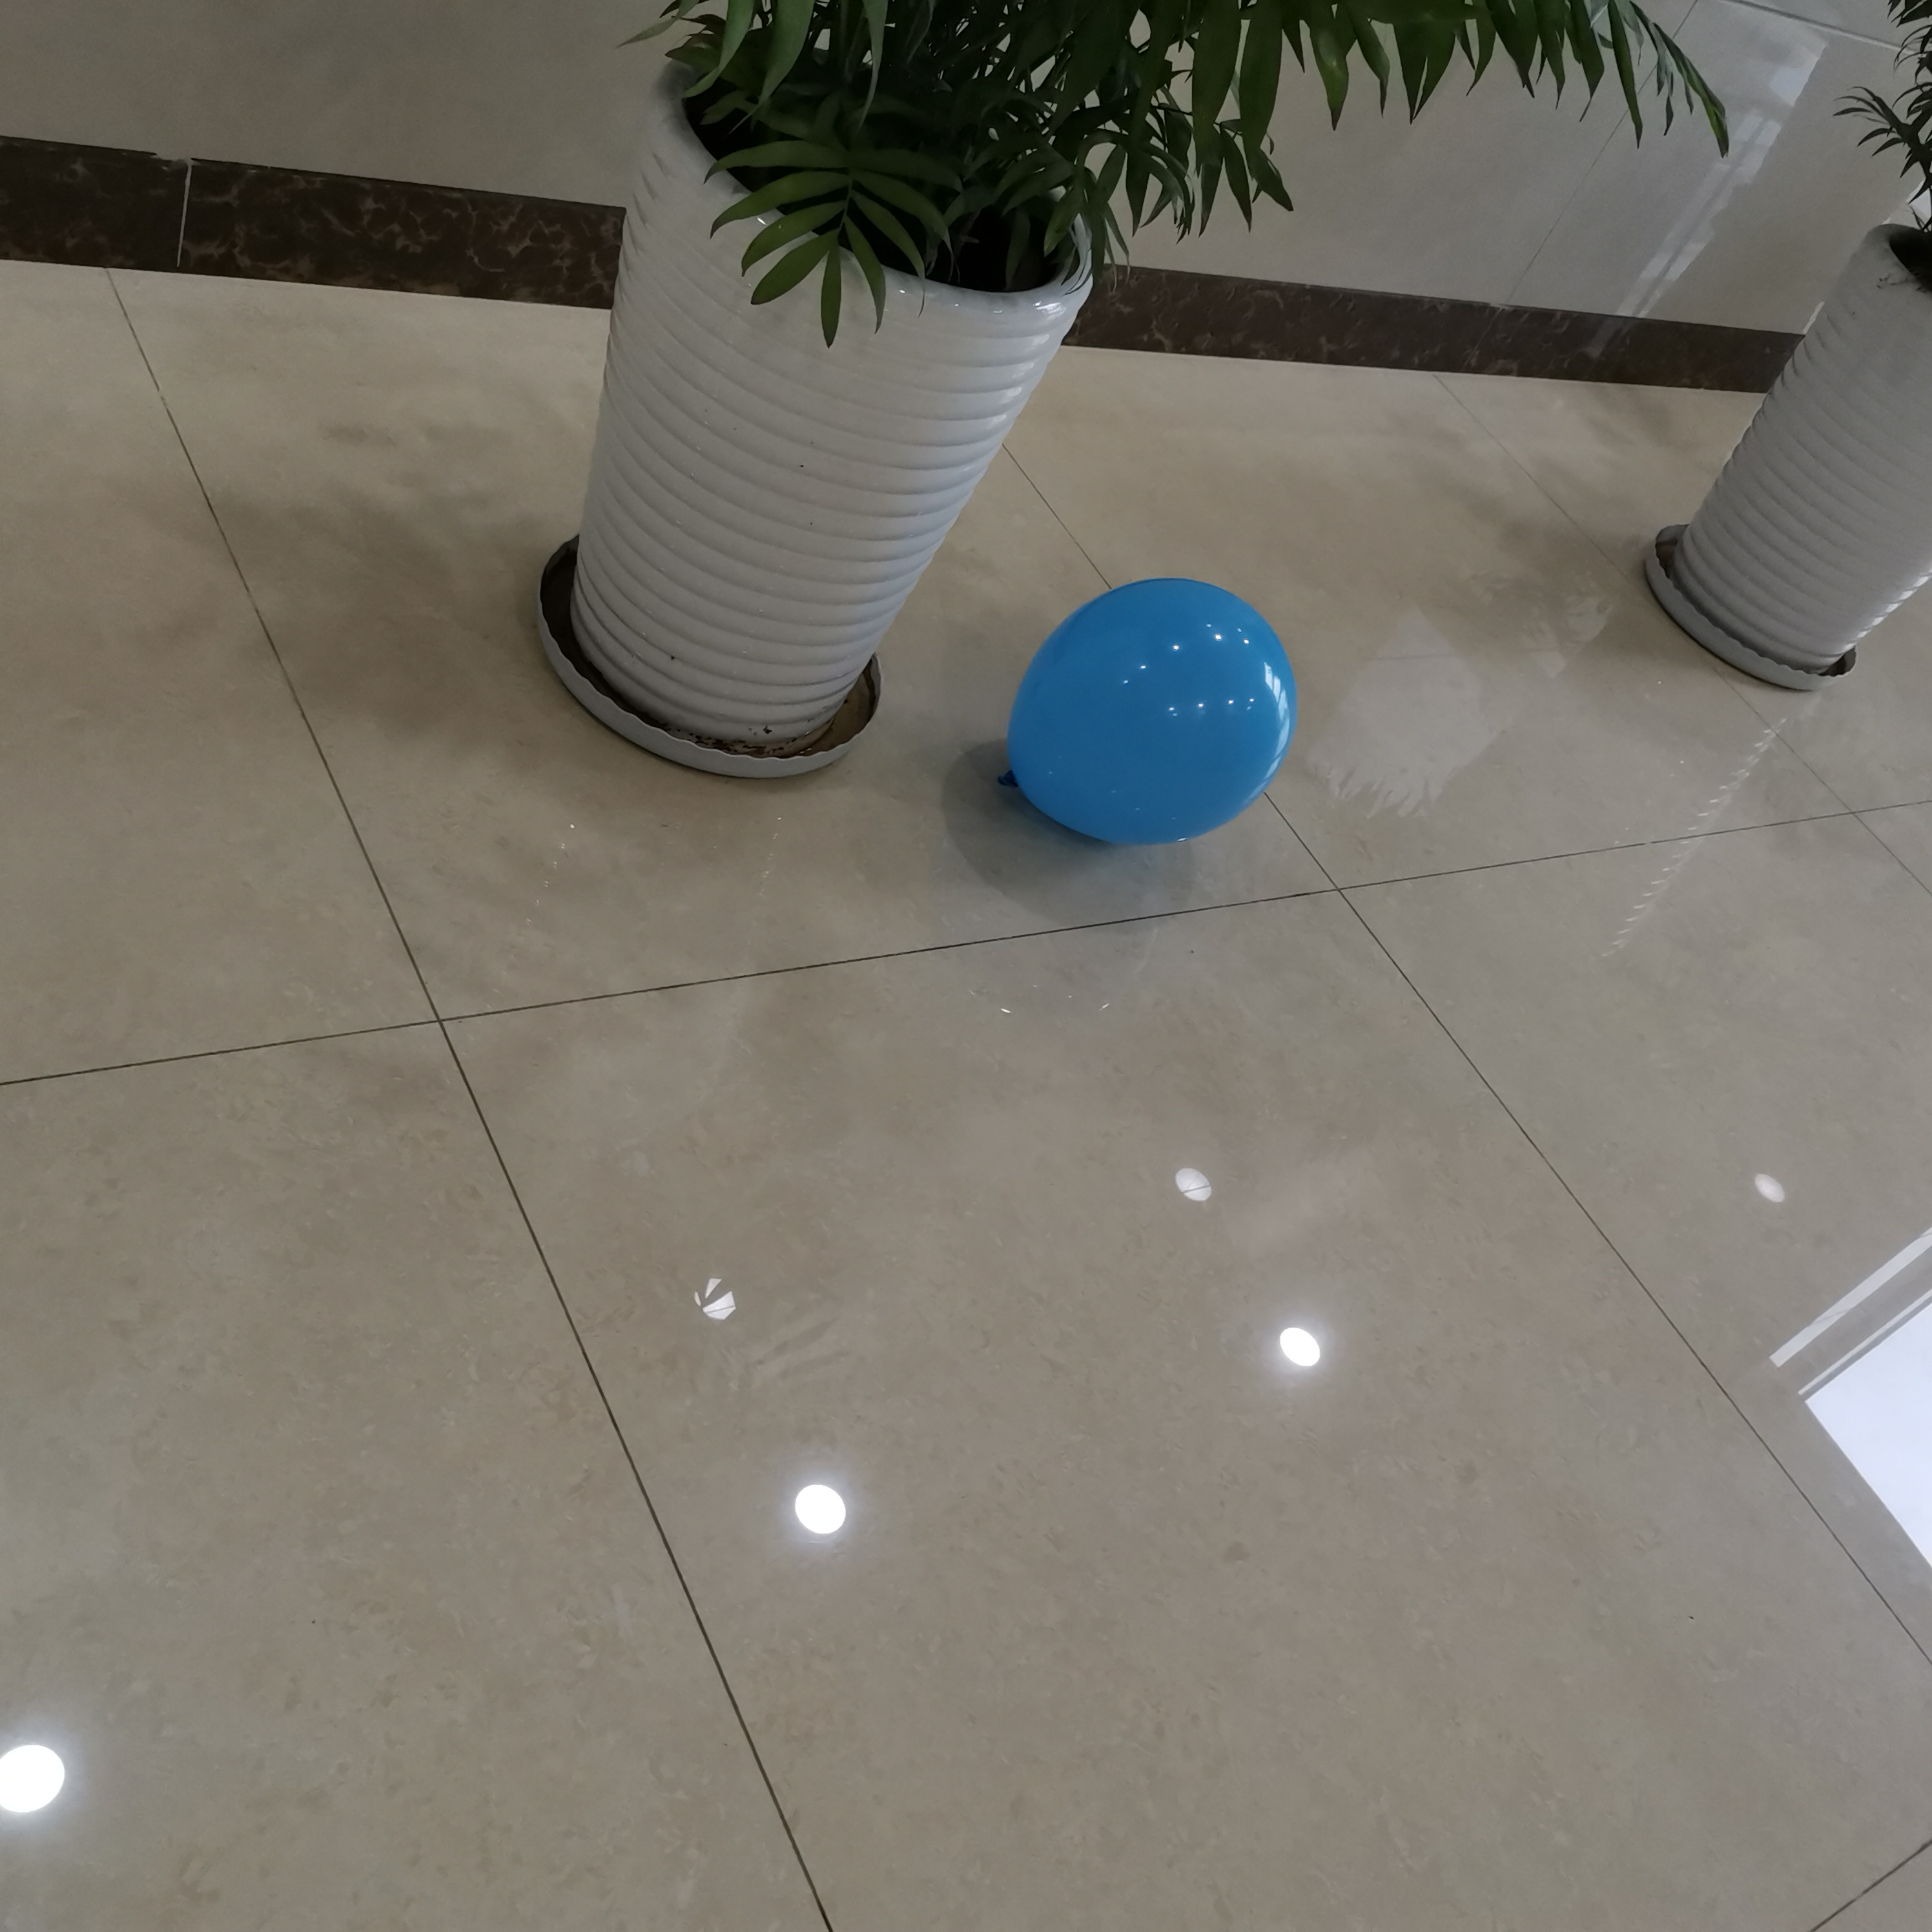balloon: (1000, 577, 1297, 842)
